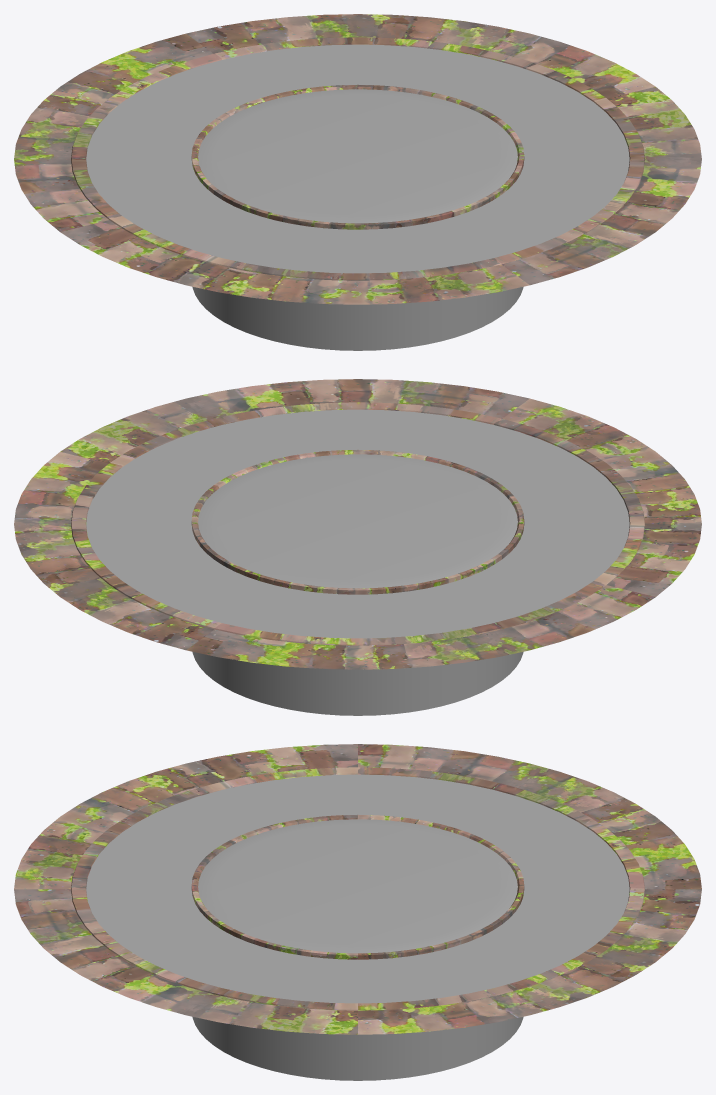
Rendered from SM_CenterPiece_01.fbx.
The picture shows the model from 3 angles, top to bottom: view 1: azimuth 30°, elevation 25°; view 2: azimuth 150°, elevation 25°; view 3: azimuth 270°, elevation 25°; orthographic projection.
Parts seen in each view (by area): view 1: SM_CenterPiece_01; view 2: SM_CenterPiece_01; view 3: SM_CenterPiece_01.
Part boxes in pixels (<box>): SM_CenterPiece_01: <box>14,14,701,350</box>; SM_CenterPiece_01: <box>14,379,701,715</box>; SM_CenterPiece_01: <box>14,744,701,1080</box>.
Size of the model in its own units: 2482 by 500 by 2482.
